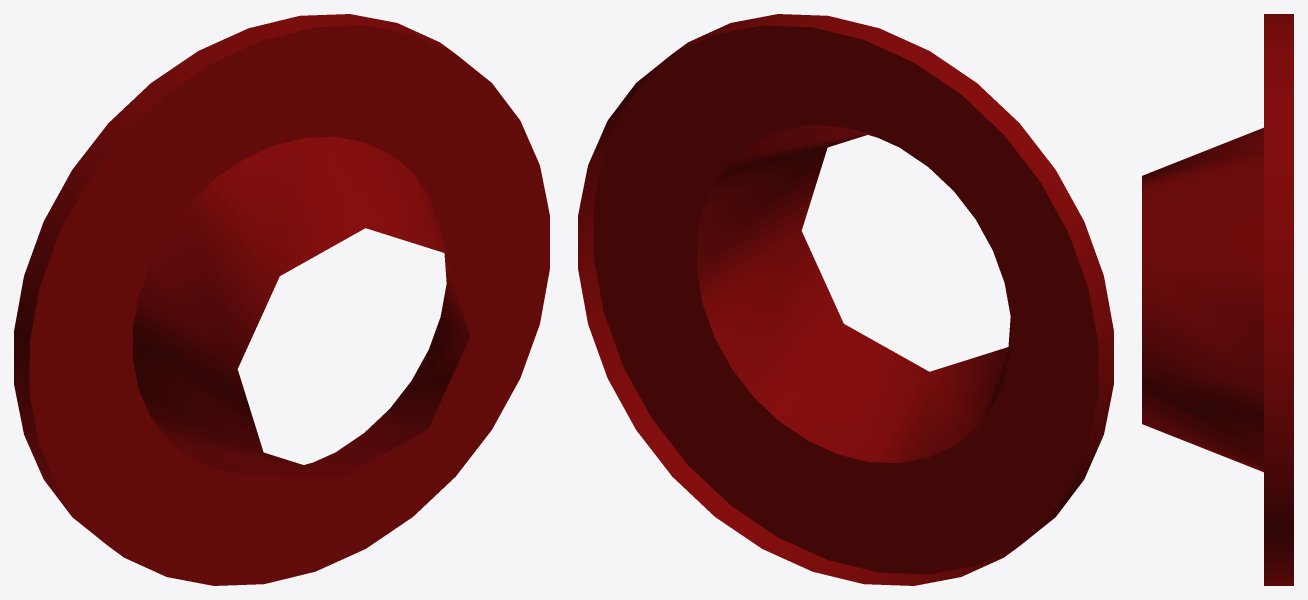
File: Rotor_Perf_R.obj
3 renders of one model, left to right at view 1: azimuth 30°, elevation 25°; view 2: azimuth 150°, elevation 25°; view 3: azimuth 270°, elevation 25°, orthographic. The views are drawn at different scales.
Parts seen in each view (by area): view 1: Rotor_Perf_R; view 2: Rotor_Perf_R; view 3: Rotor_Perf_R.
Boxes of the visible parts, x1,y1,x2,y2 form: Rotor_Perf_R: (14, 14, 549, 585); Rotor_Perf_R: (578, 14, 1113, 585); Rotor_Perf_R: (1142, 14, 1293, 585).
Bounding box in the file's own units: 0.3641 × 0.3641 × 0.0969.
